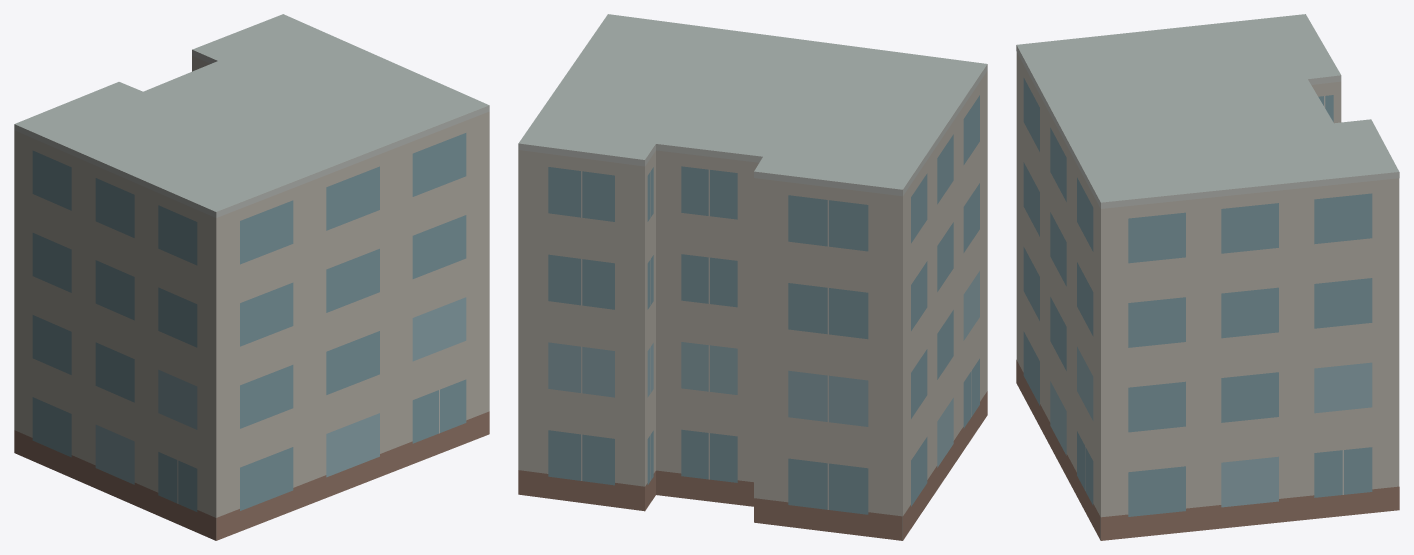
Rendered from survey-upis-32677445.glb.
3 renders of one model, left to right at view 1: azimuth 30°, elevation 25°; view 2: azimuth 150°, elevation 25°; view 3: azimuth 270°, elevation 25°, orthographic. The views are drawn at different scales.
Visible parts, largest first — view 1: survey-upis-32677445.tmp; view 2: survey-upis-32677445.tmp; view 3: survey-upis-32677445.tmp.
Part boxes in pixels (x1=…): survey-upis-32677445.tmp: x1=14, y1=14, x2=489, y2=540; survey-upis-32677445.tmp: x1=518, y1=14, x2=987, y2=540; survey-upis-32677445.tmp: x1=1016, y1=14, x2=1399, y2=540.
Bounding box in the file's own units: 15.75 × 13.16 × 13.51.
